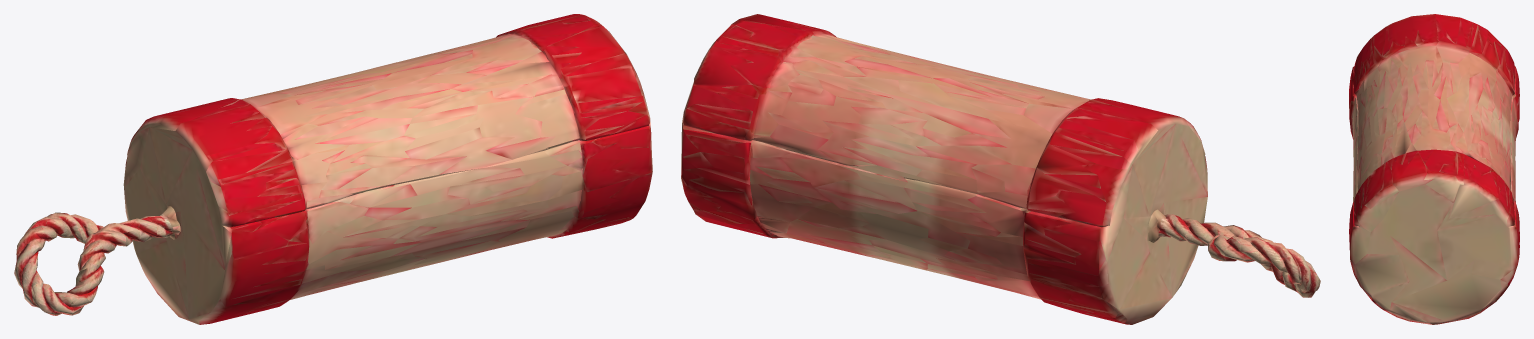
File: projectile-firecracker.glb
The picture shows the model from 3 angles, left to right: view 1: azimuth 30°, elevation 25°; view 2: azimuth 150°, elevation 25°; view 3: azimuth 270°, elevation 25°; orthographic projection. The views are drawn at different scales.
Bounding box in the file's own units: 1.9 × 0.6016 × 0.6133.
Materials: 1 (1 with a texture image).
